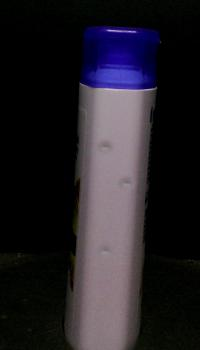dent_marginal: (90, 130, 118, 156), (116, 170, 135, 198), (94, 245, 118, 262)
